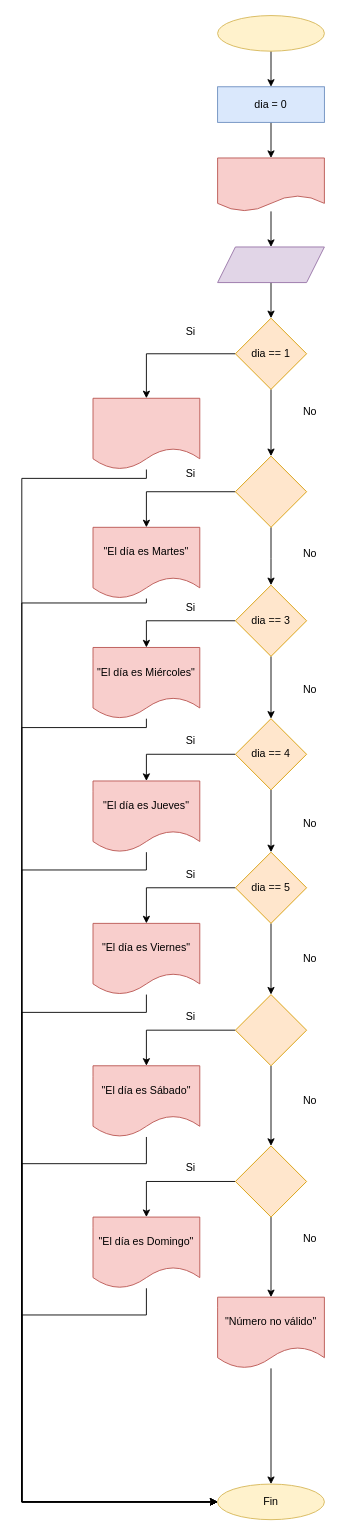
The diagram is 352 pixels wide and 1535 high, and some of its shapes have lost their labels. Each missing label, with the centre of its shape:
"El día es Lunes": the point at 146,433
"Ingrese el número del día: ": the point at 270,184
dia: the point at 270,264
dia == 2: the point at 271,491
dia == 6: the point at 271,1030
dia == 7: the point at 271,1181
Inicio: the point at 270,33
